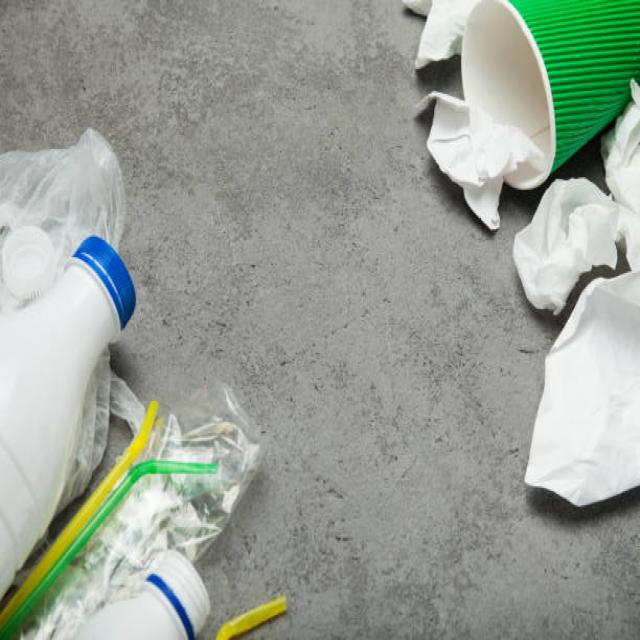cardboard: (452, 19, 632, 91)
paper: (526, 190, 640, 450)
plastic: (1, 119, 283, 640), (432, 86, 541, 243)
